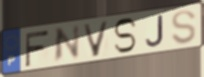F: (24, 28, 51, 68)
J: (144, 13, 165, 48)
N: (52, 23, 81, 65)
S: (170, 9, 198, 46), (112, 17, 138, 55)
V: (81, 20, 111, 59)
